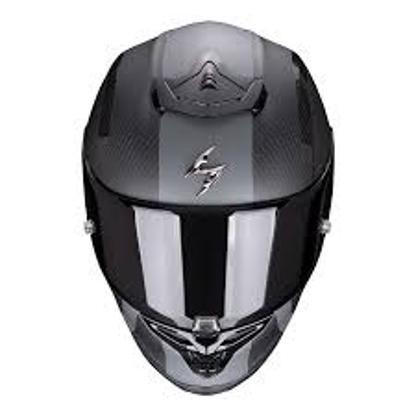not trash: (78, 18, 336, 396)
